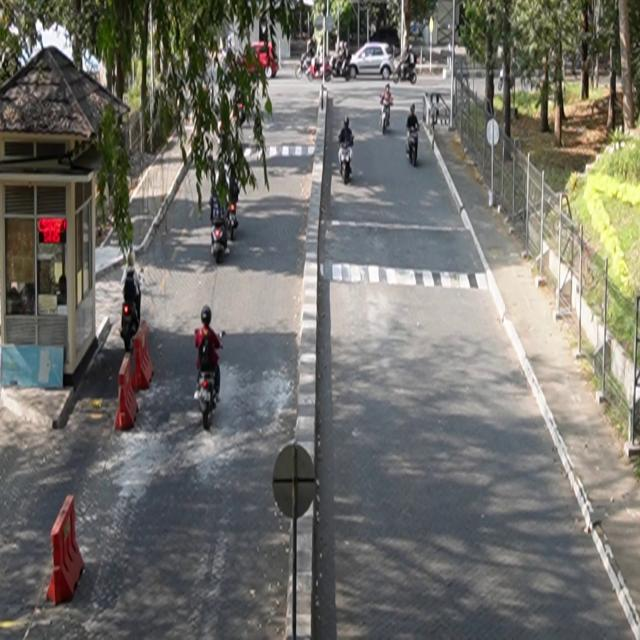car: (348, 43, 396, 80)
